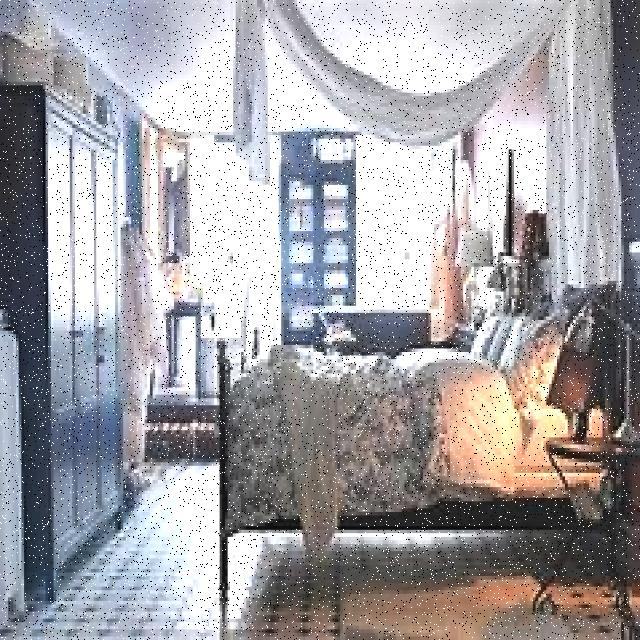bed: (236, 291, 579, 524)
